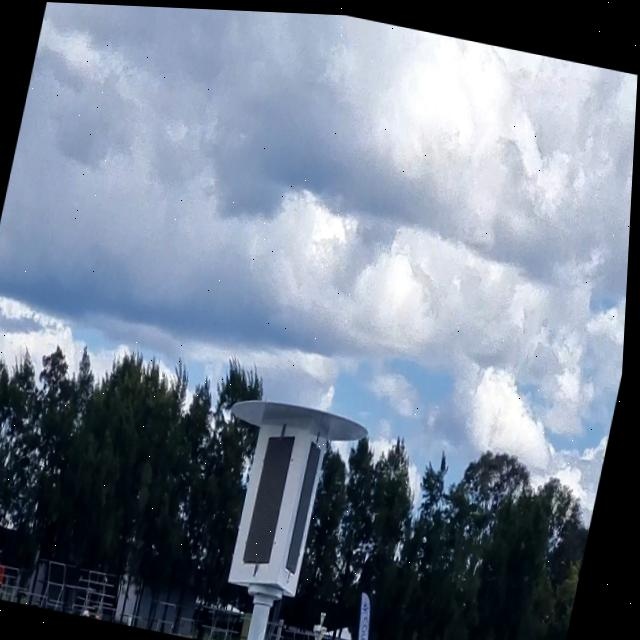led: (239, 421, 309, 576), (286, 425, 332, 585)
